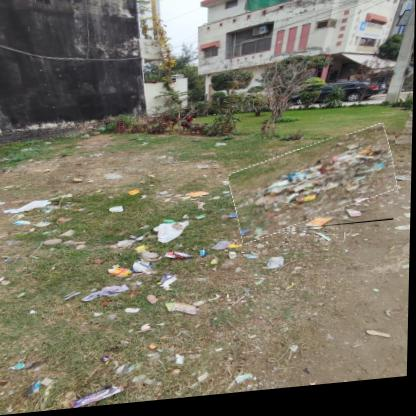Garbage: (231, 140, 398, 243)
